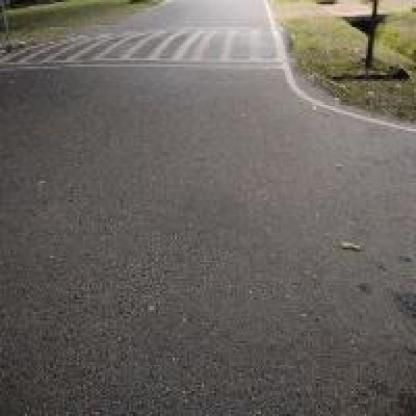Speed Bump: (0, 23, 279, 71)
